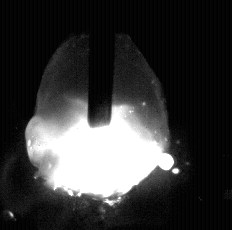arame: (88, 0, 114, 128)
poca: (26, 0, 169, 230)
